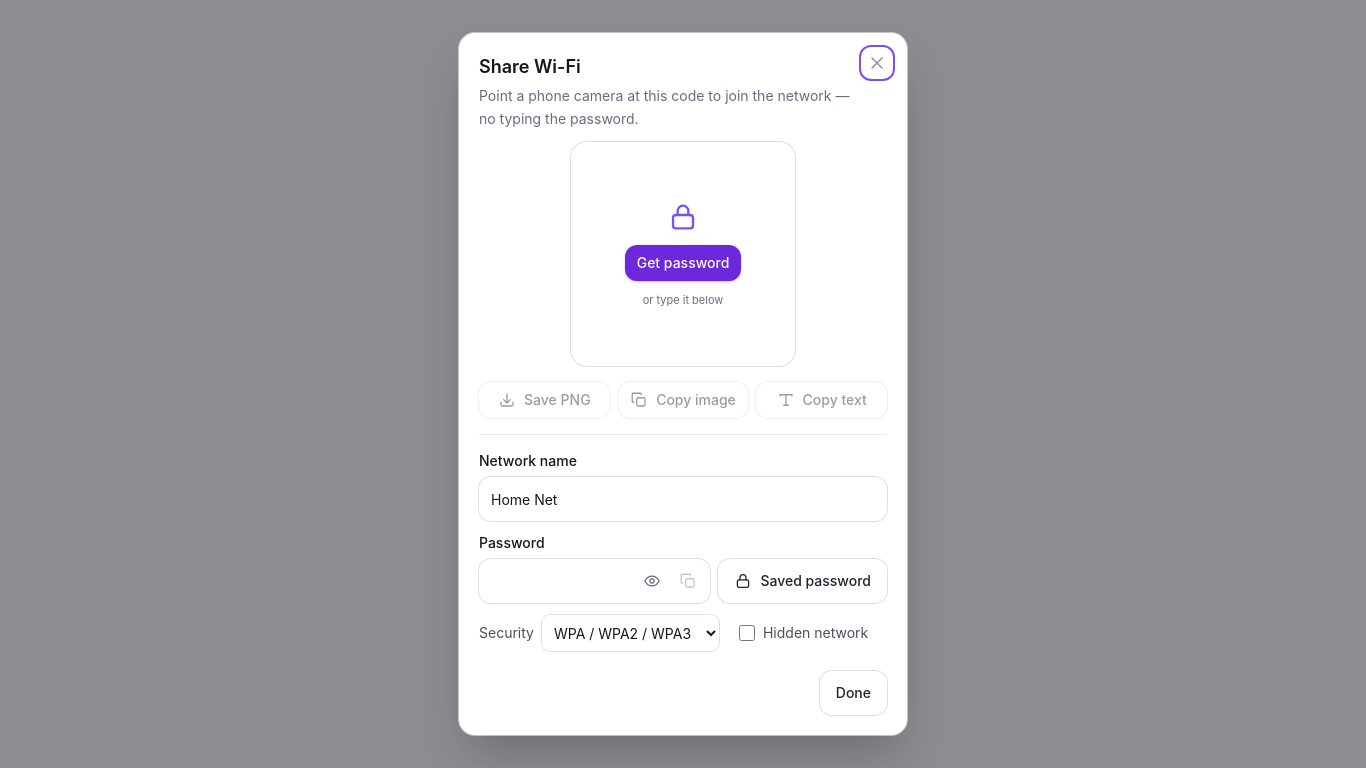
WifiQrPanel › stays quiet when the system sheet is dismissed, but explains real failures
Click the button "Get password" at point(683, 263), box [625,245,741,281]
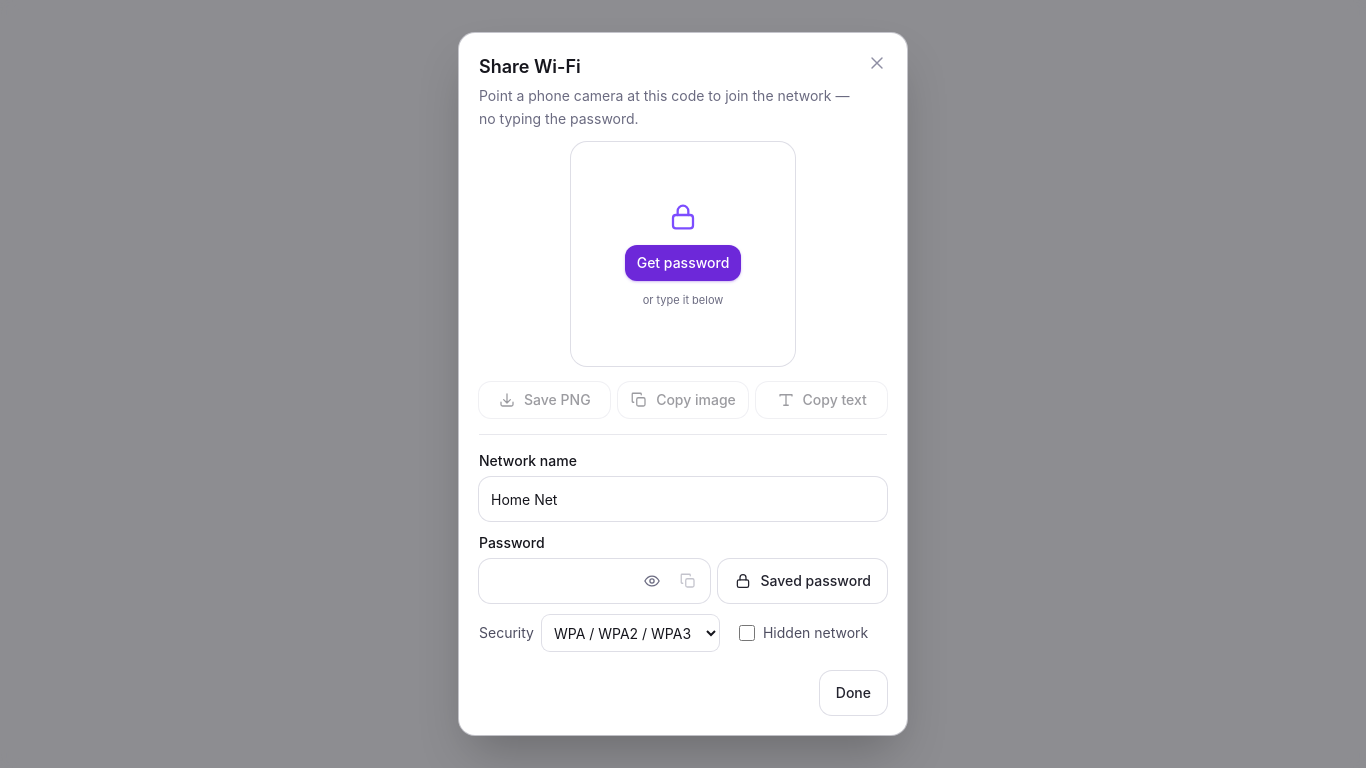
Click the button "Get password" at point(683, 263), box [625,245,741,281]
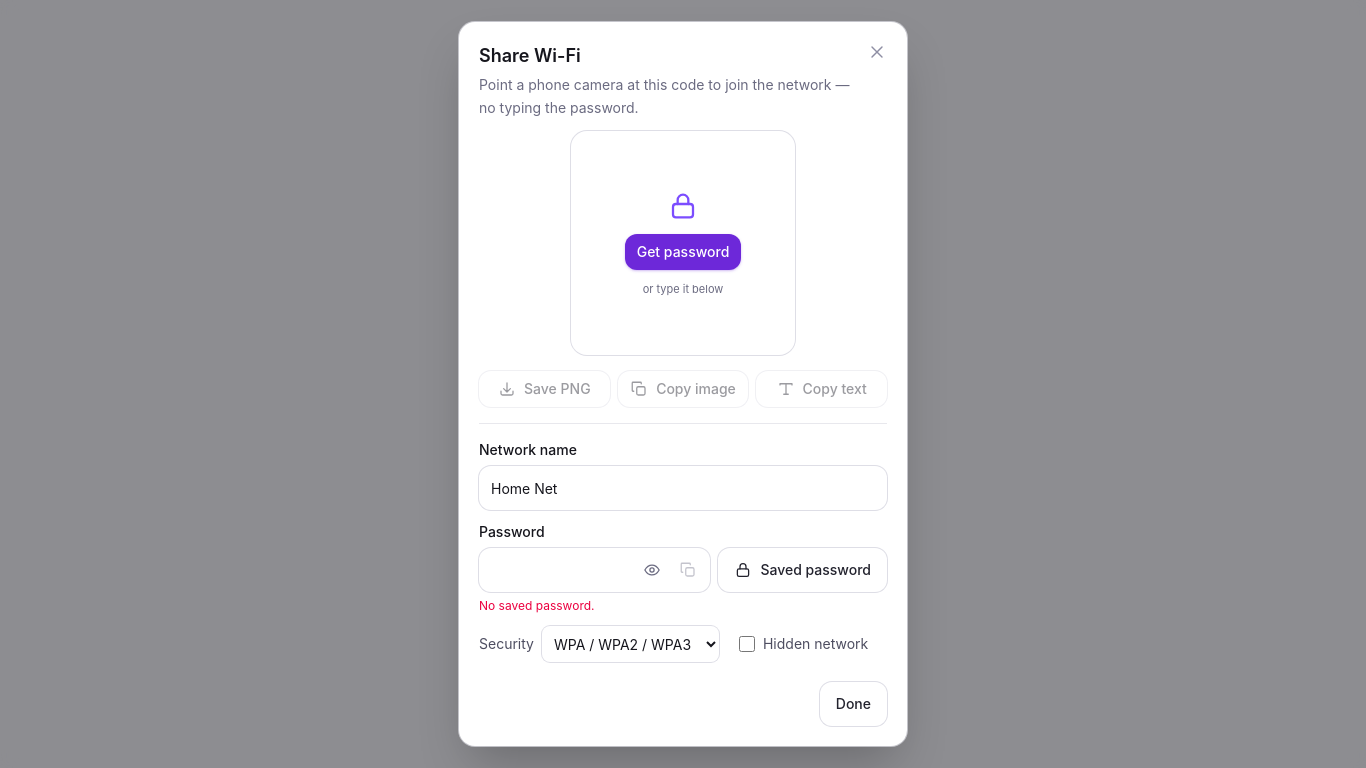
Expected: the text "No saved password." is shown, [479,598,594,613]
